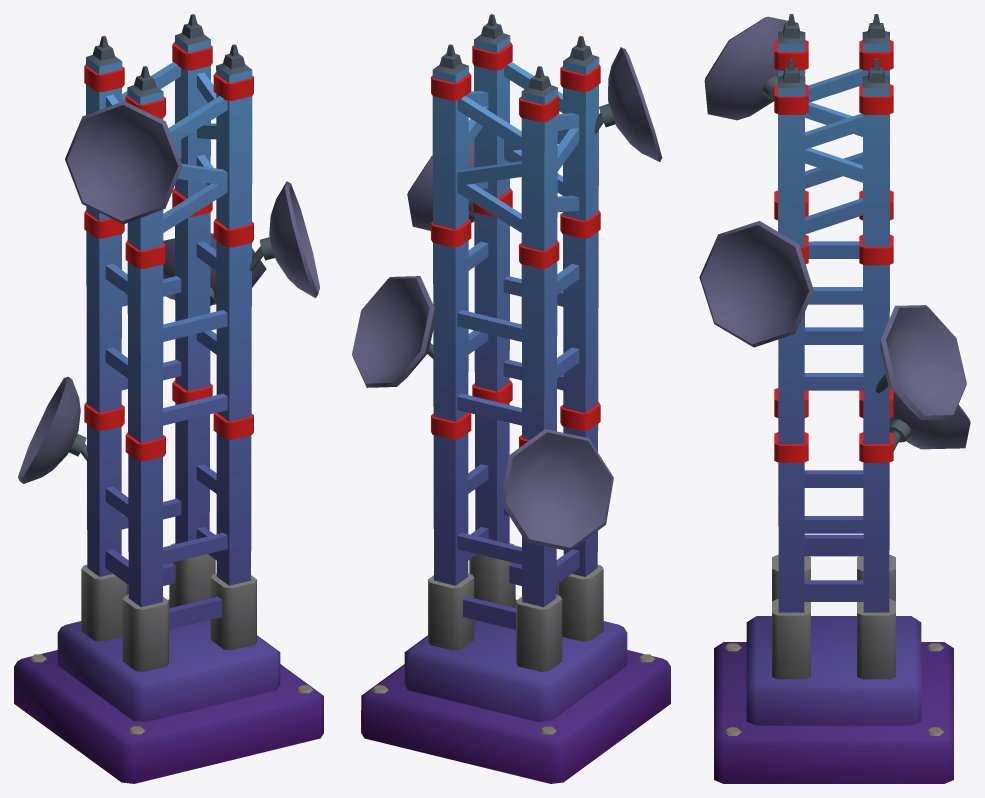
Rendered from SignalTower_1_B.fbx.
3 views of the same model, side by side, from view 1: azimuth 30°, elevation 25°; view 2: azimuth 150°, elevation 25°; view 3: azimuth 270°, elevation 25° (orthographic). The views are drawn at different scales.
Visible parts, largest first — view 1: SignalTower_1_B; view 2: SignalTower_1_B; view 3: SignalTower_1_B.
Part boxes in pixels (bbox=[...]): SignalTower_1_B: bbox=[14, 14, 323, 783]; SignalTower_1_B: bbox=[352, 14, 670, 783]; SignalTower_1_B: bbox=[699, 14, 970, 783].
Size of the model in its own units: 118 by 309 by 109.
